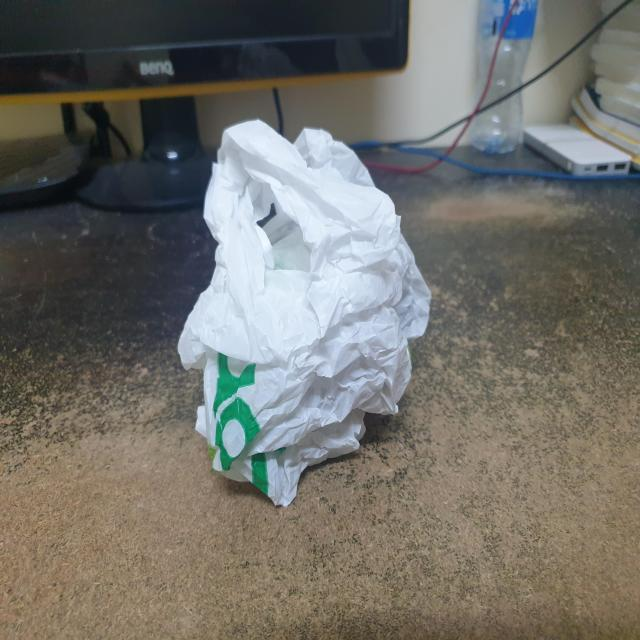plastic bag: (173, 118, 433, 523)
